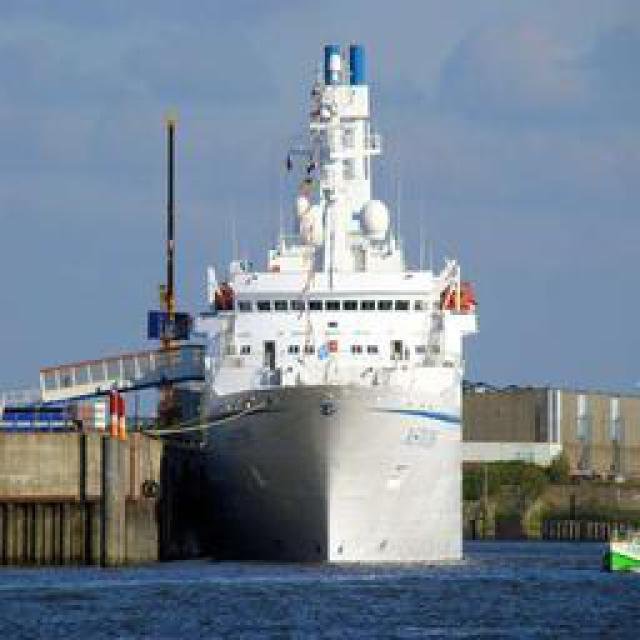Ship: (130, 39, 480, 549)
